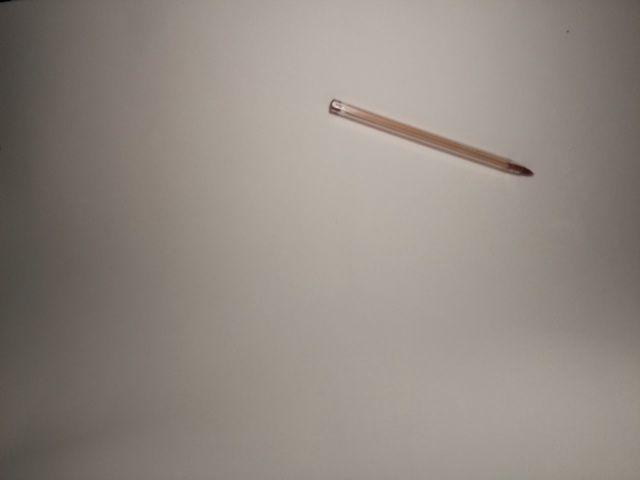Caneta: (319, 87, 537, 183)
